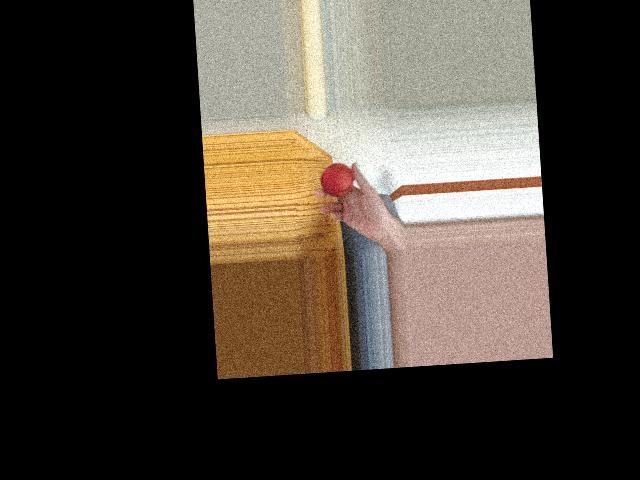apple: (319, 159, 359, 197)
